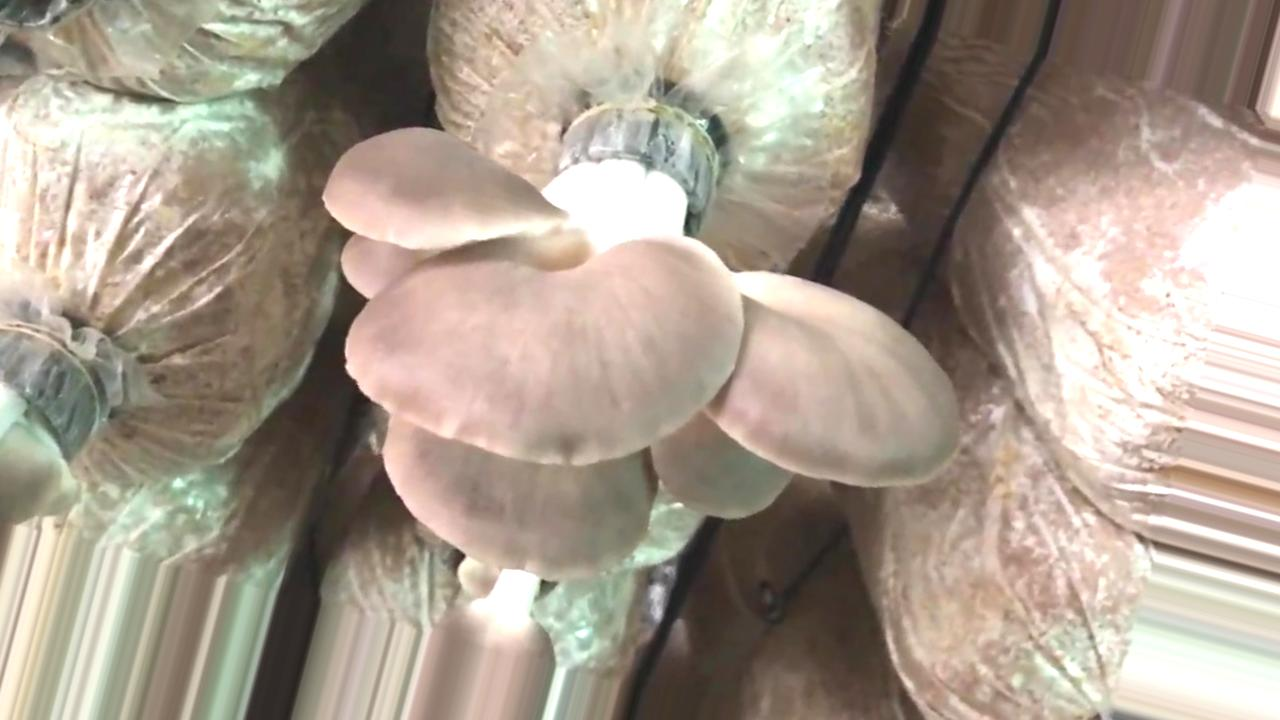nam: (320, 103, 960, 578), (415, 560, 554, 720), (1, 323, 85, 524)
